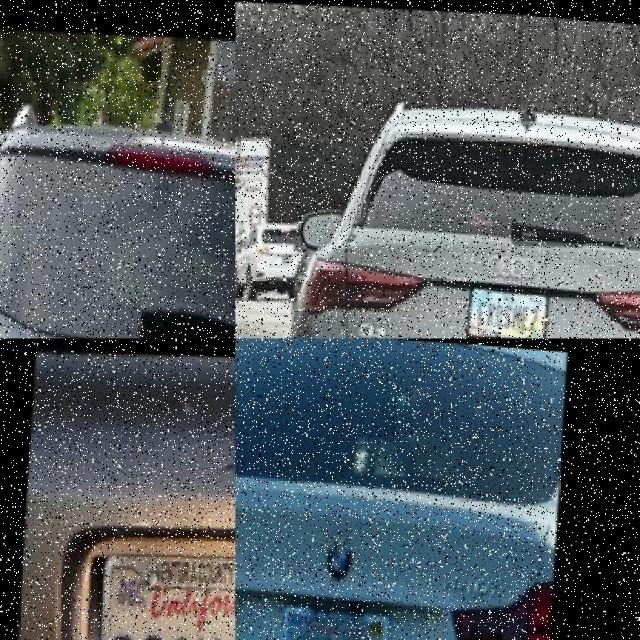licenseplate: (96, 540, 236, 640), (283, 594, 395, 640), (472, 280, 555, 338)
